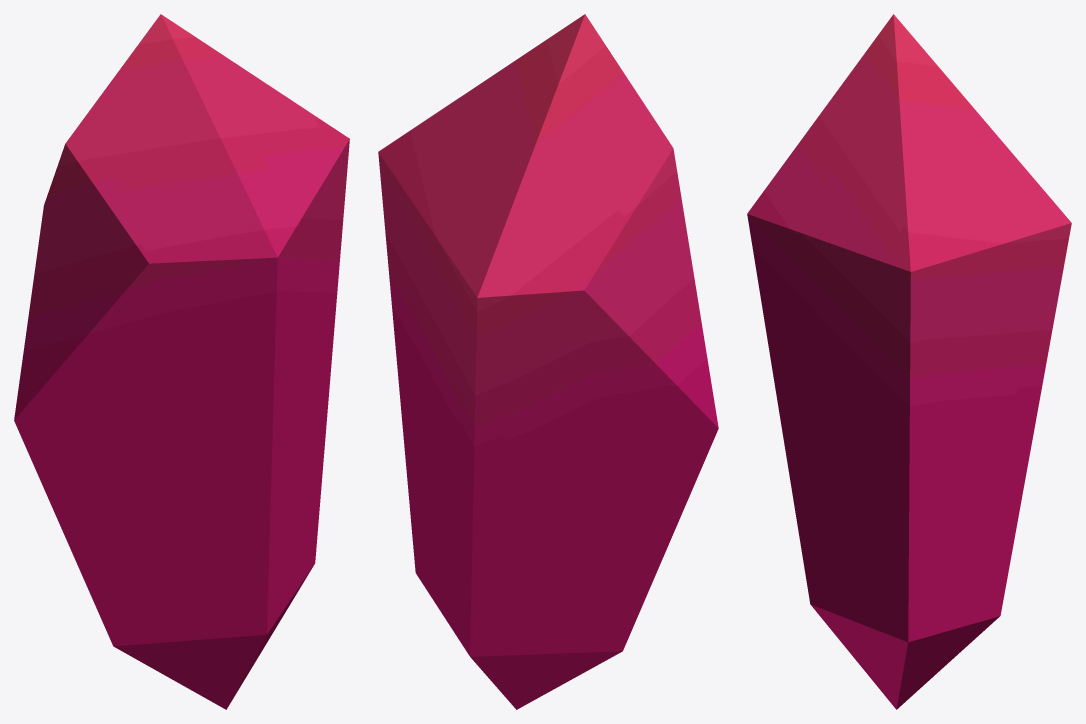
Rendered from Gem.fbx.
3 renders of one model, left to right at view 1: azimuth 30°, elevation 25°; view 2: azimuth 150°, elevation 25°; view 3: azimuth 270°, elevation 25°, orthographic. The views are drawn at different scales.
Visible parts, largest first — view 1: Cylinder.130; view 2: Cylinder.130; view 3: Cylinder.130.
Part boxes in pixels (x1,y1,x2,y2): Cylinder.130: (14,14,349,709); Cylinder.130: (378,14,718,709); Cylinder.130: (747,14,1071,709).
Bounding box in the file's own units: 0.1304 × 0.2624 × 0.1161.
